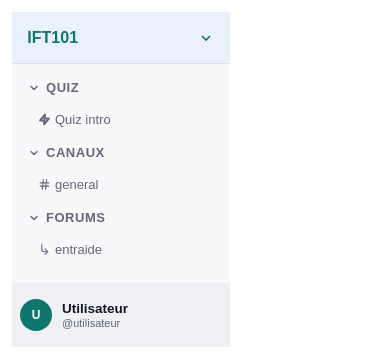
CourseMenu › sélecteur de cours › la recherche filtre sur le code ou le titre, et affiche « Aucun résultat »
The width and height of the screenshot is (372, 364).
Click the button "IFT101" at (121, 38), box [12,12,230,63]
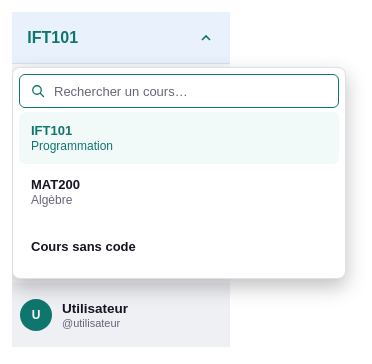
Type "algè" into the field with placeholder "Rechercher un cours…" at (191, 91), box [54,84,328,98]
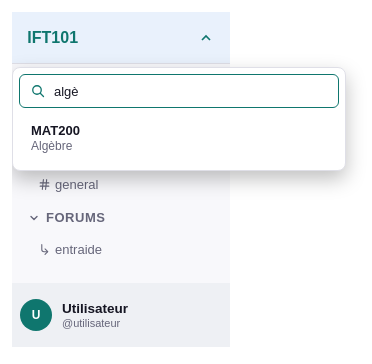
Check: the options read "MAT200Algèbre", in this order, box [19,112,339,164]
Replace the text in the field with placeholder "Rechercher un cours…" with "zzz" at (191, 91), box [54,84,328,98]
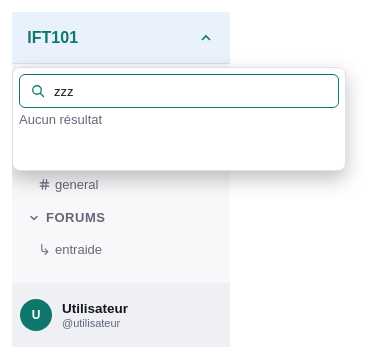
Check: no options are shown
Check: the list item "Aucun résultat" is shown, box [19,112,102,127]
